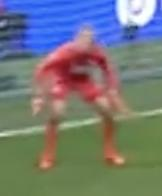goalkeeper: (24, 18, 132, 179)
